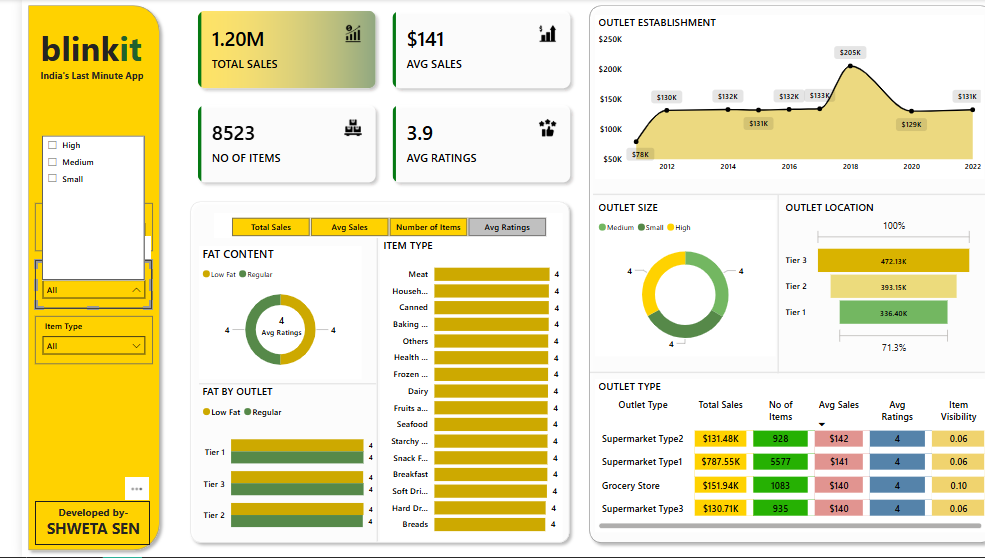

What the dashboard file says about the page in this screenshot:
{"tool":"powerbi","page":{"name":"Page 1","canvas":[1400,800],"ordinal":0},"visuals":[{"type":"shape","box":[0,0,206.2,799.4],"z":0},{"type":"textbox","box":[20.9,32.1,165.5,83.5],"z":1000},{"type":"textbox","box":[356.6,292.4,207.2,28.9],"z":2000},{"type":"textbox","box":[20.9,96.4,213.7,36.9],"z":3000},{"type":"cardVisual","fields":{"Data":["BlinkIT Grocery Data.Total Sales","BlinkIT Grocery Data.Avg Sales","BlinkIT Grocery Data.Number of Items","BlinkIT Grocery Data.Avg Ratings"]},"box":[234.5,0,568.7,281.1],"z":4000},{"type":"shape","box":[231.8,281.5,561.5,507.3],"z":5000},{"type":"donutChart","title":"FAT CONTENT","fields":{"Y":["BlinkIT Grocery Data.Avg Ratings"],"Category":["BlinkIT Grocery Data.Item Fat Content"]},"box":[254.4,353.8,233.3,191.2],"z":6000},{"type":"slicer","fields":{"Values":["Metrics.Metrics"]},"box":[275.5,307.1,499.8,36.1],"z":7000},{"type":"cardVisual","fields":{"Data":["BlinkIT Grocery Data.Avg Ratings"]},"box":[317.6,435.1,108.4,67.7],"z":8000},{"type":"clusteredBarChart","title":"FAT BY OUTLET","fields":{"Y":["BlinkIT Grocery Data.Avg Ratings"],"Category":["BlinkIT Grocery Data.Outlet Location Type"],"Series":["BlinkIT Grocery Data.Item Fat Content"]},"box":[254.4,552.5,254.4,230.3],"z":9000},{"type":"shape","box":[254.4,544.9,254.4,13.5],"z":10000},{"type":"shape","box":[498.3,343.2,21.1,435.1],"z":11000},{"type":"barChart","title":"ITEM TYPE","fields":{"Y":["BlinkIT Grocery Data.Avg Ratings"],"Category":["BlinkIT Grocery Data.Item Type"]},"box":[513.3,343.2,261.9,435.1],"z":12000},{"type":"shape","title":"OUTL","box":[803.9,0,596.1,788.8],"z":13000},{"type":"lineChart","title":"OUTLET ESTABLISHMENT","fields":{"Y":["BlinkIT Grocery Data.Total Sales"],"Category":["BlinkIT Grocery Data.Outlet Establishment Year"]},"box":[821.9,22.6,558.5,234.8],"z":14000},{"type":"shape","box":[818.9,268,566,24.1],"z":15000},{"type":"donutChart","title":"OUTLET SIZE","fields":{"Y":["BlinkIT Grocery Data.Avg Ratings"],"Category":["BlinkIT Grocery Data.Outlet Size"]},"box":[821.9,287.5,258.9,224.3],"z":16000},{"type":"shape","box":[1077.8,280,12,257.4],"z":17000},{"type":"funnel","title":"OUTLET LOCATION","fields":{"Category":["BlinkIT Grocery Data.Outlet Location Type"],"Y":["Sum(BlinkIT Grocery Data.Sales)"]},"box":[1089.9,287.5,278.5,227.3],"z":18000},{"type":"shape","box":[814.4,523.9,566,24.1],"z":19000},{"type":"pivotTable","title":"OUTLET TYPE","fields":{"Rows":["BlinkIT Grocery Data.Outlet Type"],"Values":["BlinkIT Grocery Data.Total Sales","BlinkIT Grocery Data.Number of Items","BlinkIT Grocery Data.Avg Sales","BlinkIT Grocery Data.Avg Ratings","Avg(BlinkIT Grocery Data.Item Visibility)"]},"box":[821.9,544.9,563,219.8],"z":20000},{"type":"slicer","fields":{"Values":["BlinkIT Grocery Data.Outlet Location Type"]},"box":[18.1,292,168.6,69.2],"z":21000},{"type":"slicer","fields":{"Values":["BlinkIT Grocery Data.Outlet Size"]},"box":[18.1,374.8,168.6,69.2],"z":22000},{"type":"slicer","fields":{"Values":["BlinkIT Grocery Data.Item Type"]},"box":[18.1,454.6,168.6,69.2],"z":23000},{"type":"textbox","box":[48.7,262.4,109,35.8],"z":24000},{"type":"textbox","box":[18.1,719.6,165.6,63.2],"z":25000}]}

Visuals, with their boxes in screenshot pixels (x1, y1, x2, y2), scaled from the page's 1400x800 canvas onto the 985x558 screenshot:
shape: <box>0,0,145,557</box>
textbox: <box>15,22,131,81</box>
textbox: <box>251,204,397,224</box>
textbox: <box>15,67,165,93</box>
cardVisual - BlinkIT Grocery Data.Total Sales x BlinkIT Grocery Data.Avg Sales: <box>165,0,565,196</box>
shape: <box>163,196,558,550</box>
"FAT CONTENT" donutChart: <box>179,247,343,380</box>
slicer - Metrics.Metrics: <box>194,214,545,239</box>
cardVisual - BlinkIT Grocery Data.Avg Ratings: <box>223,303,300,351</box>
"FAT BY OUTLET" clusteredBarChart: <box>179,385,358,546</box>
shape: <box>179,380,358,389</box>
shape: <box>351,239,365,543</box>
"ITEM TYPE" barChart: <box>361,239,545,543</box>
"OUTL" shape: <box>566,0,984,550</box>
"OUTLET ESTABLISHMENT" lineChart: <box>578,16,971,180</box>
shape: <box>576,187,974,204</box>
"OUTLET SIZE" donutChart: <box>578,201,760,357</box>
shape: <box>758,195,767,375</box>
"OUTLET LOCATION" funnel: <box>767,201,963,359</box>
shape: <box>573,365,971,382</box>
"OUTLET TYPE" pivotTable: <box>578,380,974,533</box>
slicer - BlinkIT Grocery Data.Outlet Location Type: <box>13,204,131,252</box>
slicer - BlinkIT Grocery Data.Outlet Size: <box>13,261,131,310</box>
slicer - BlinkIT Grocery Data.Item Type: <box>13,317,131,365</box>
textbox: <box>34,183,111,208</box>
textbox: <box>13,502,129,546</box>
